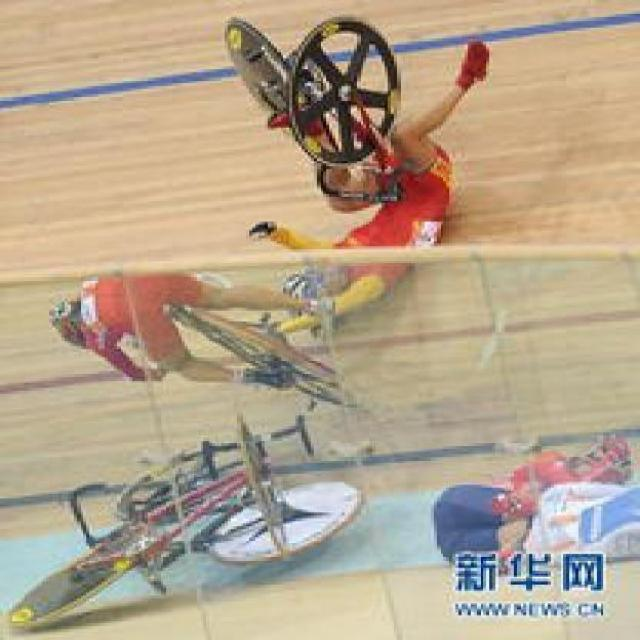fall: (209, 28, 505, 332)
